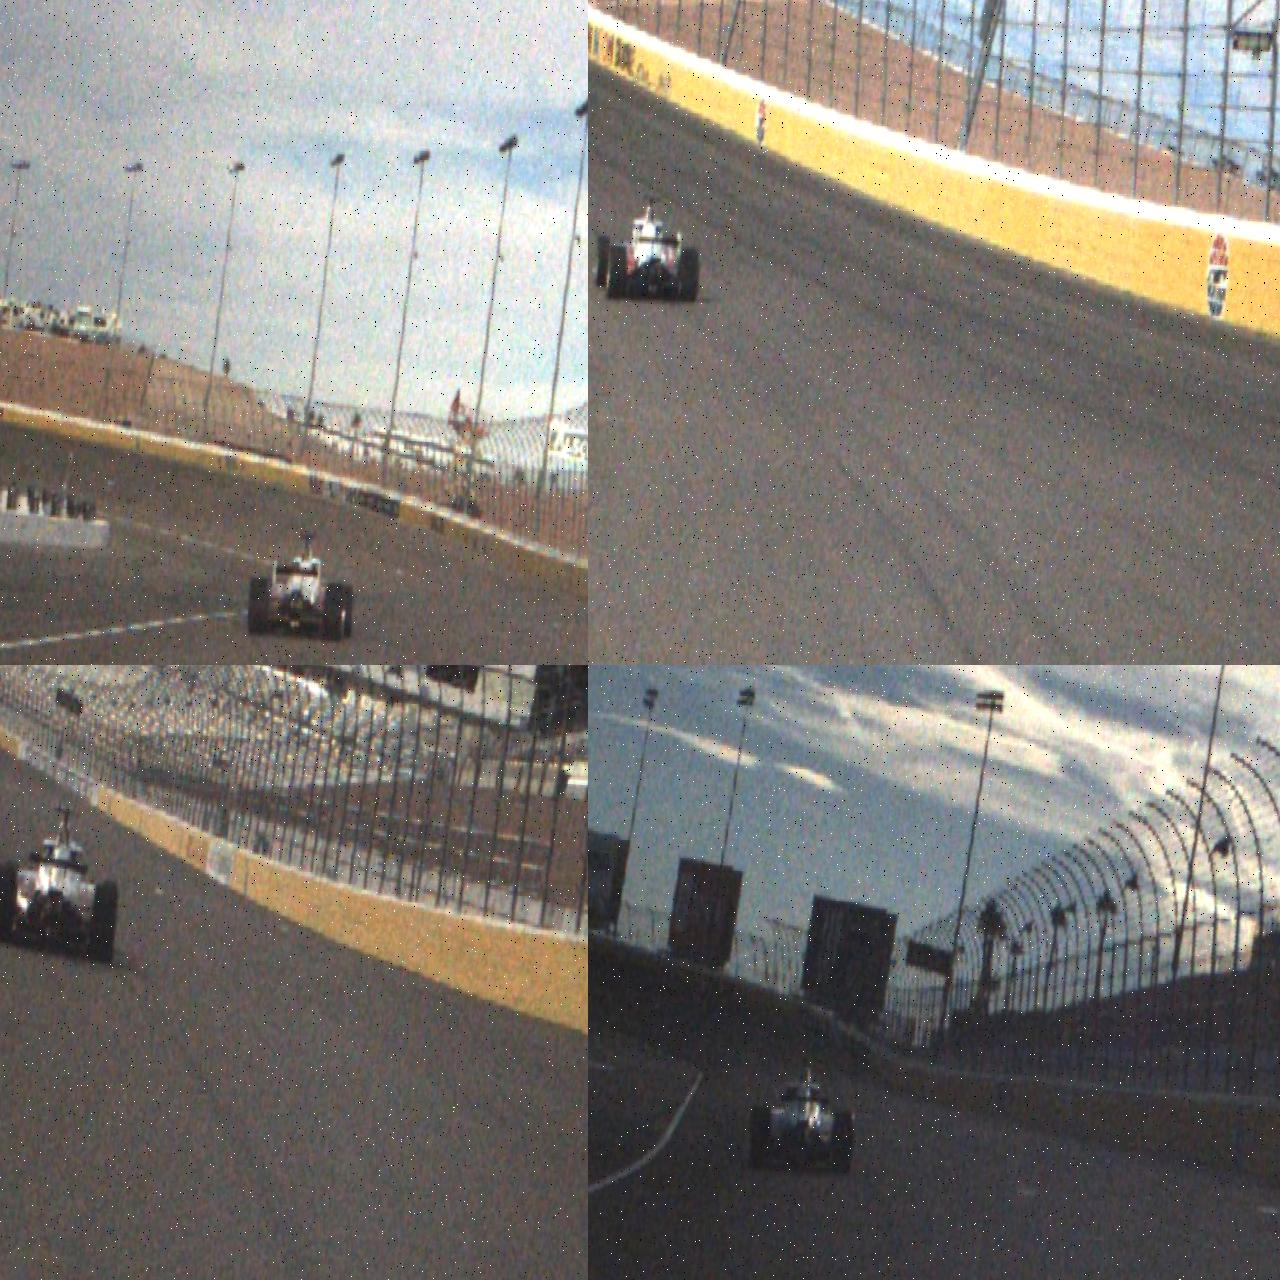AV: (0, 799, 125, 967), (748, 1054, 860, 1176), (590, 192, 706, 307), (245, 527, 359, 644)
Wheel: (89, 880, 120, 967), (830, 1110, 856, 1176), (749, 1105, 772, 1170), (246, 576, 271, 636), (0, 863, 18, 947), (678, 247, 702, 304), (324, 583, 346, 644), (606, 245, 628, 301), (594, 234, 611, 287)
